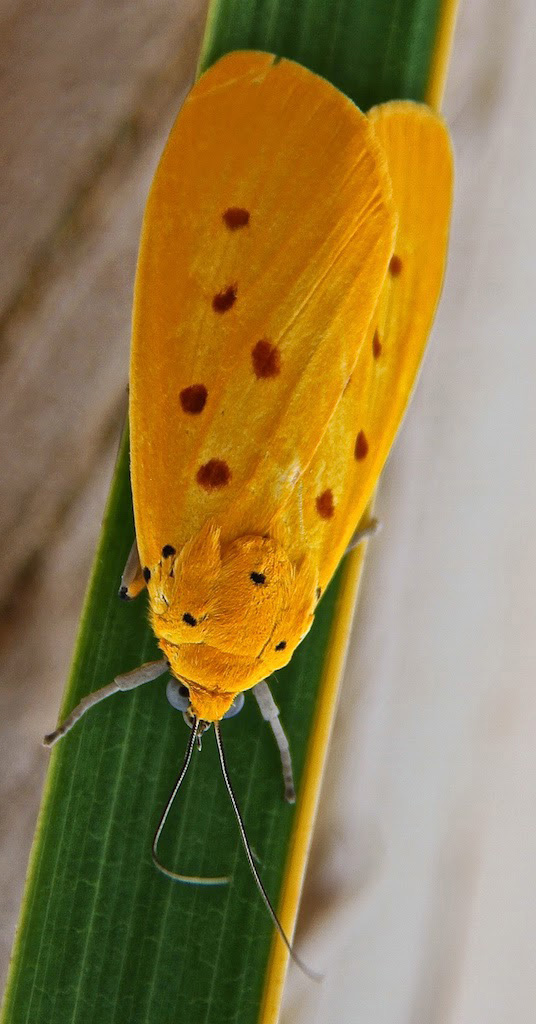Agape chloropyga: (39, 42, 461, 987)
moth: (41, 44, 463, 989)
